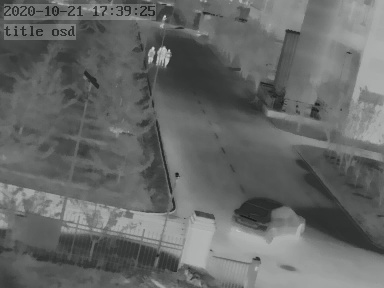person: (145, 45, 154, 64), (165, 48, 172, 67), (158, 45, 164, 67), (160, 13, 167, 29)
vehicle: (229, 197, 305, 243)
